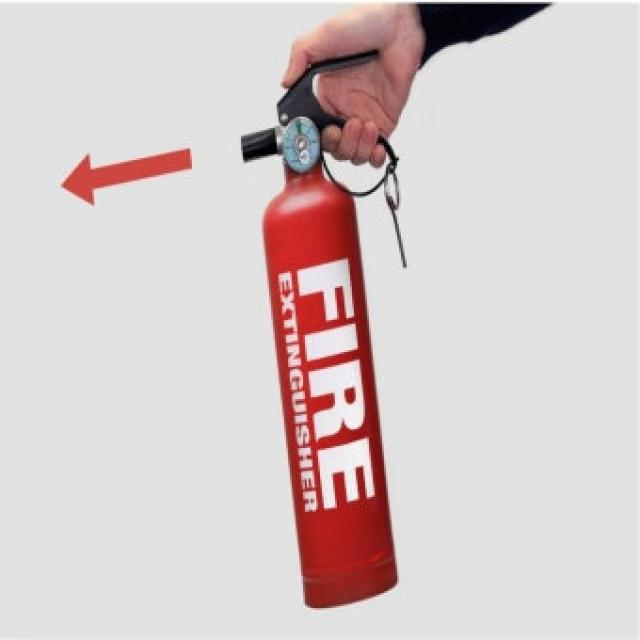pressure gauge: (284, 117, 320, 171)
